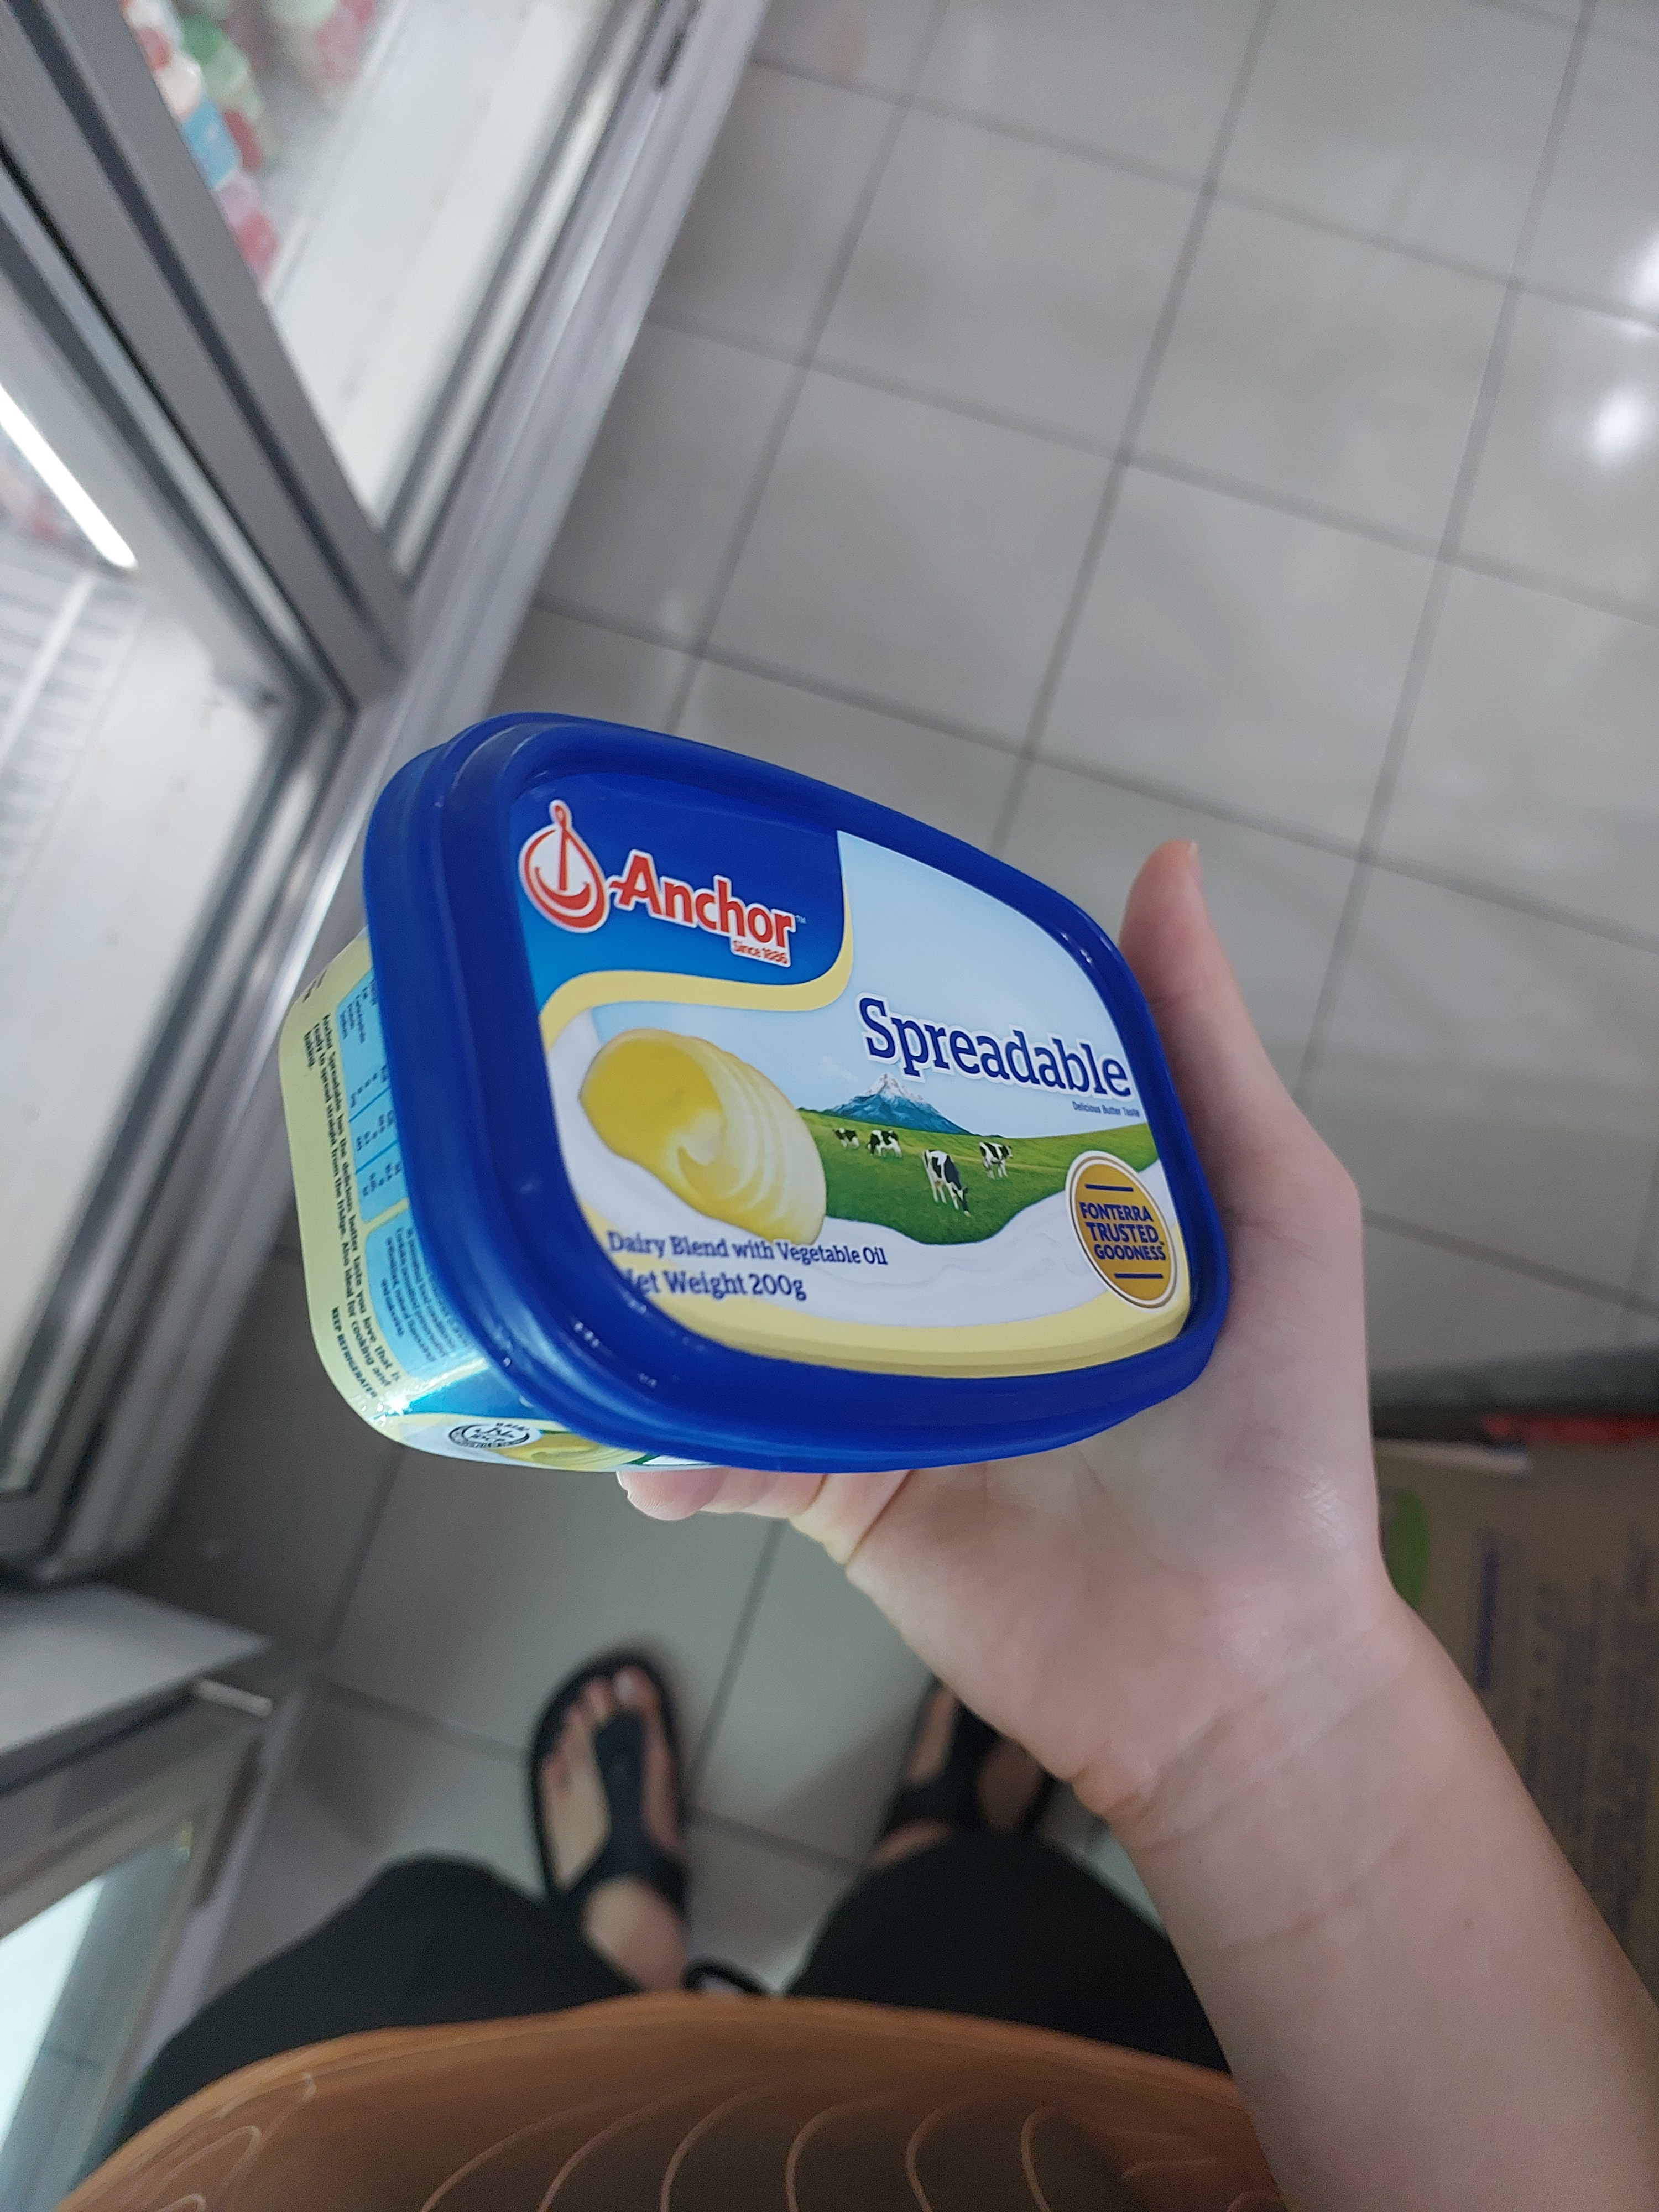butter: (272, 712, 1237, 1480)
